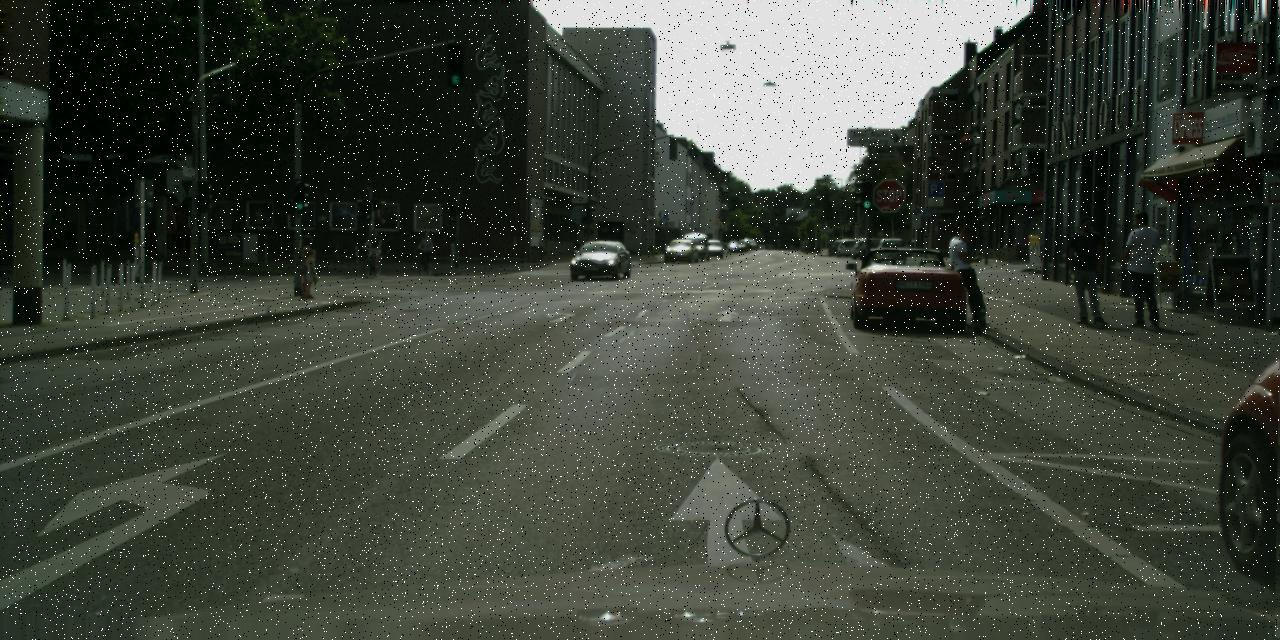ped: (1121, 212, 1168, 326), (1067, 214, 1110, 322), (953, 225, 993, 322), (293, 234, 319, 297), (300, 248, 319, 298), (365, 229, 381, 269), (418, 232, 433, 270)
